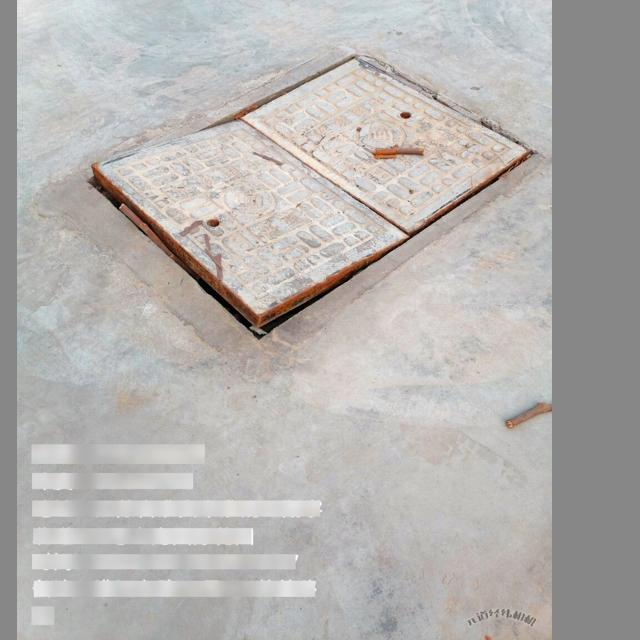uncovered: (81, 50, 540, 355)
